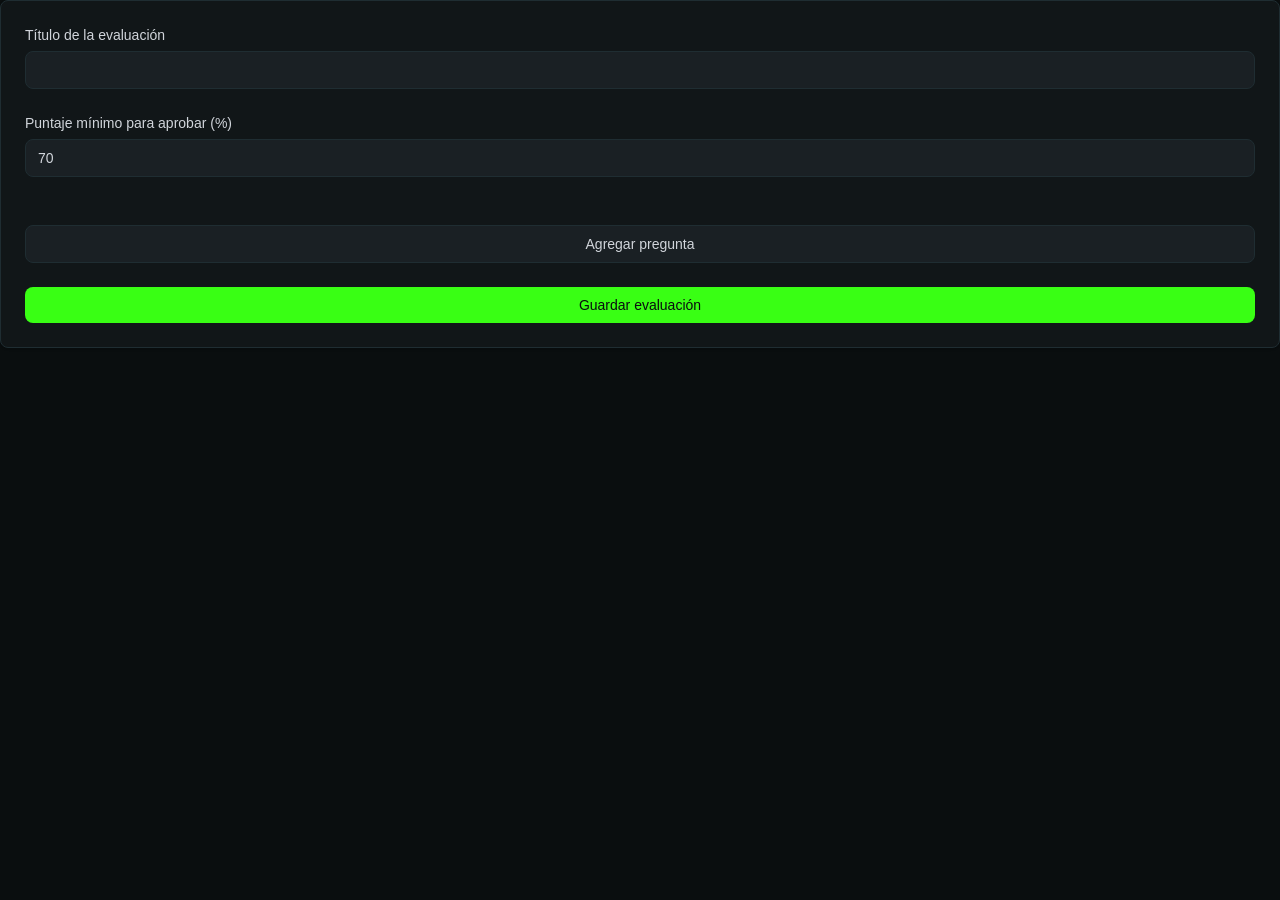
it: QuizBuilderForm › adding a question renders its editor and disables submit until it is well-formed
Click the button "Agregar pregunta" at (640, 244), box [25, 225, 1255, 263]
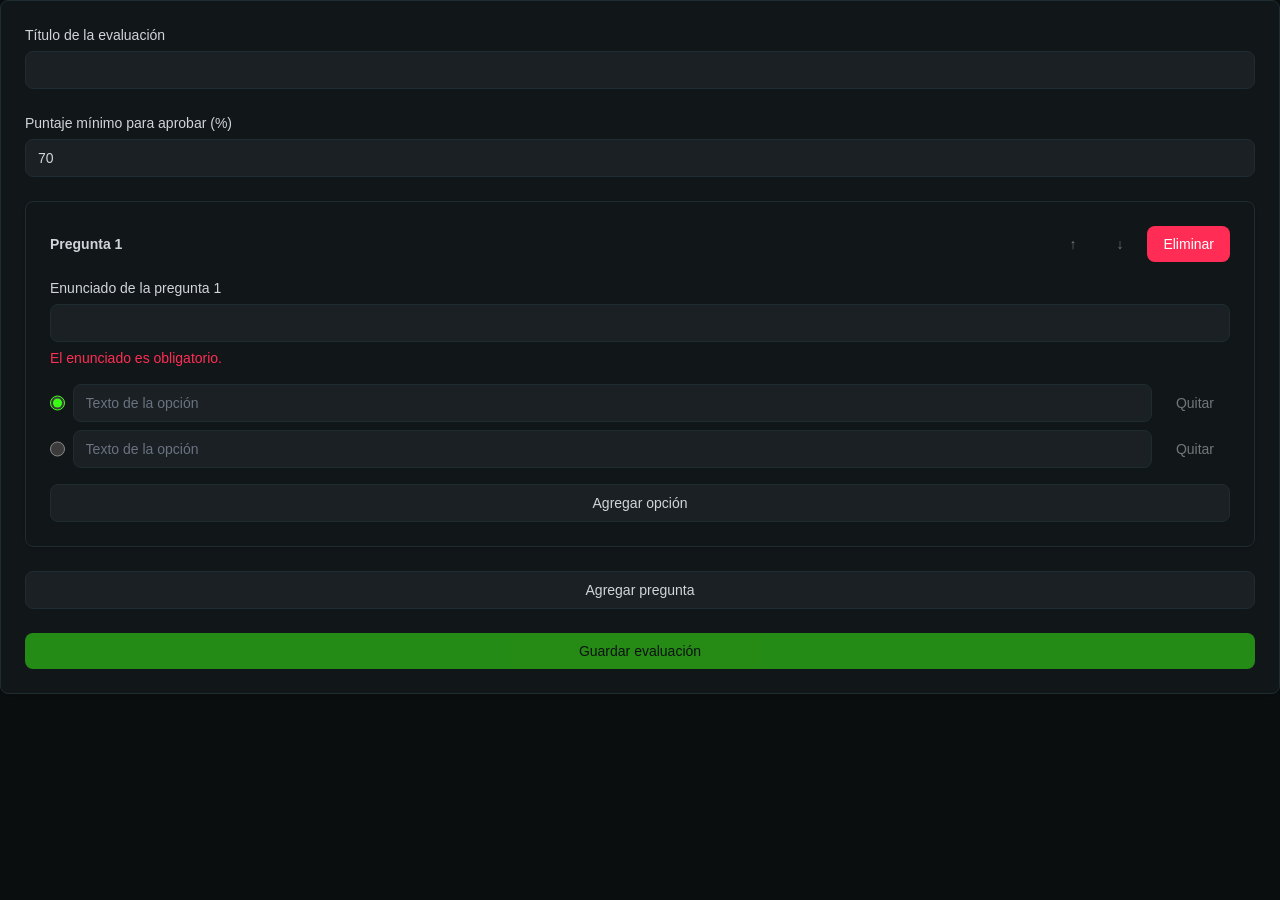
Check: the text "Pregunta 1" is shown, box [50, 234, 122, 254]
Check: the button "Guardar evaluación" is disabled, box [25, 633, 1255, 669]
Type "2 + 2?" into the field labelled "Enunciado de la pregunta 1" at (640, 323), box [50, 304, 1230, 342]
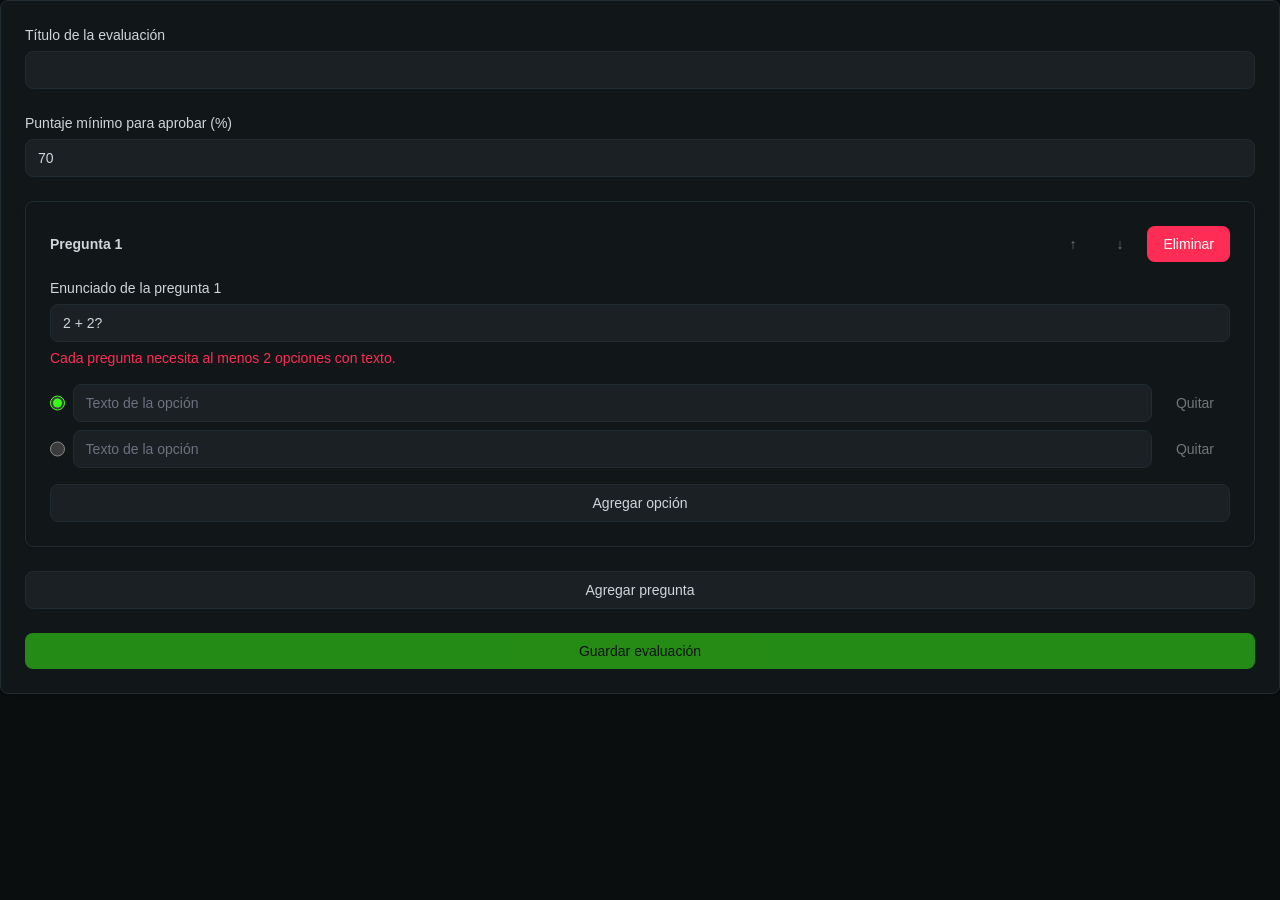
Type "3" into the field named "Opción 1 de la pregunta 1" at (612, 403), box [73, 384, 1152, 422]
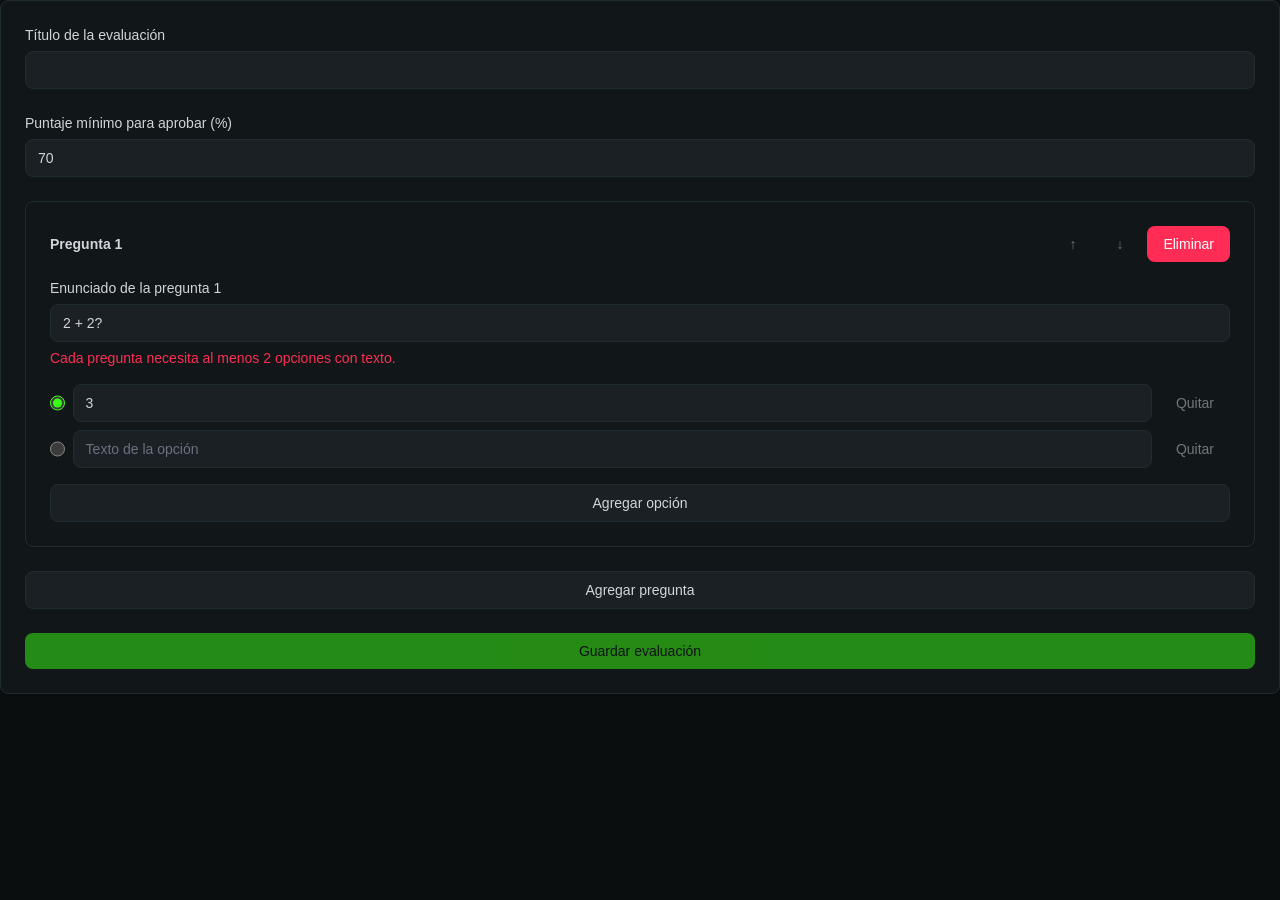
Type "4" into the field named "Opción 2 de la pregunta 1" at (612, 449), box [73, 430, 1152, 468]
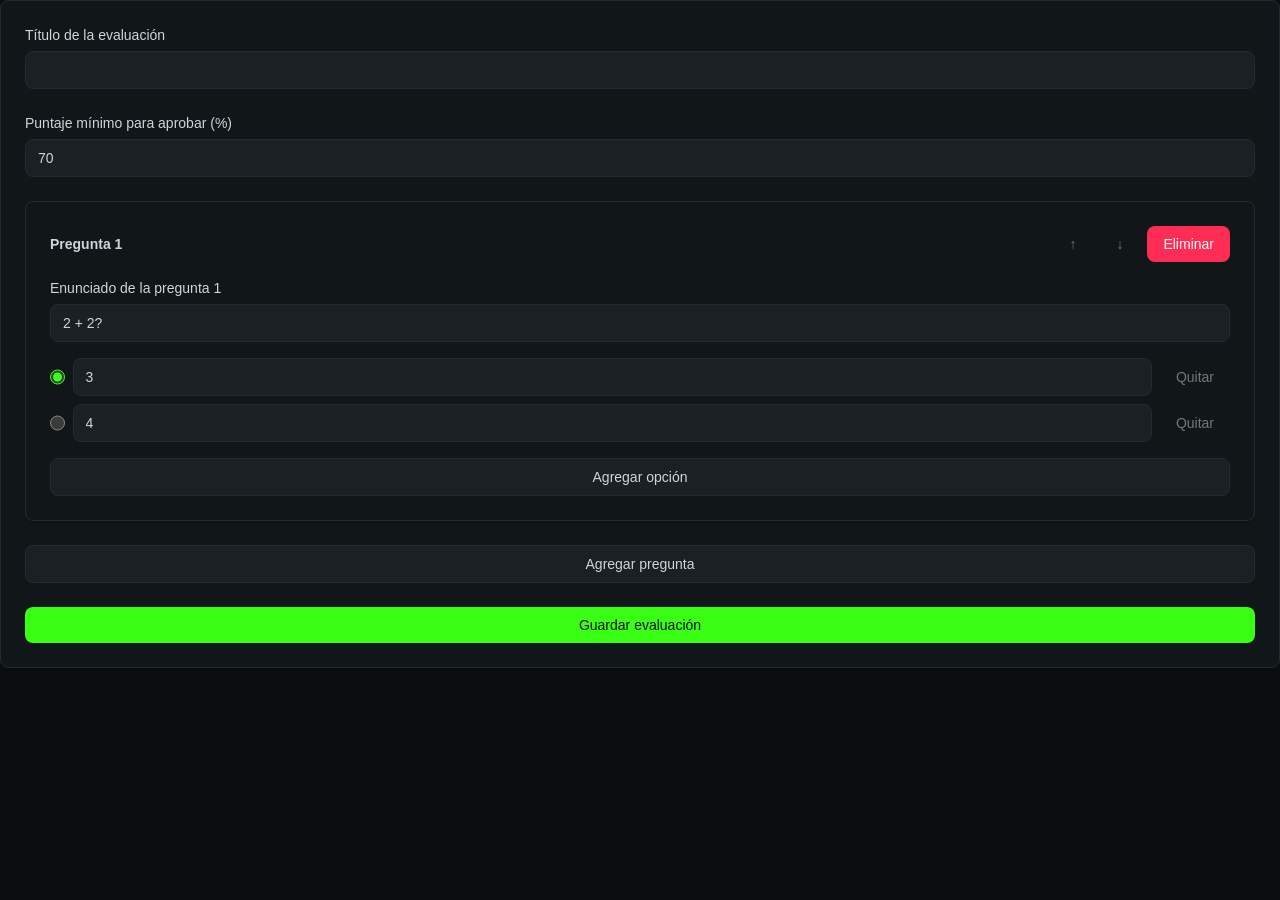
Check: the button "Guardar evaluación" is enabled, box [25, 607, 1255, 643]
